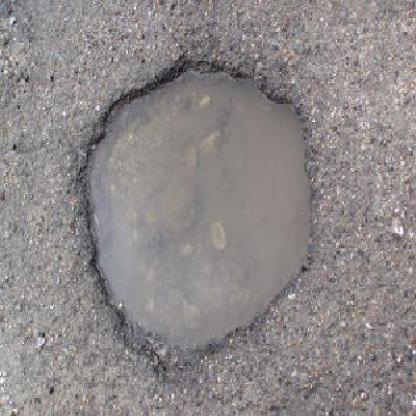pothole: (76, 52, 318, 376)
